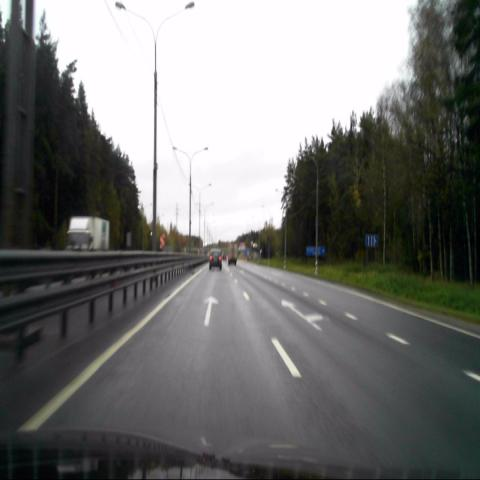5_15_1: (365, 235, 378, 245)
